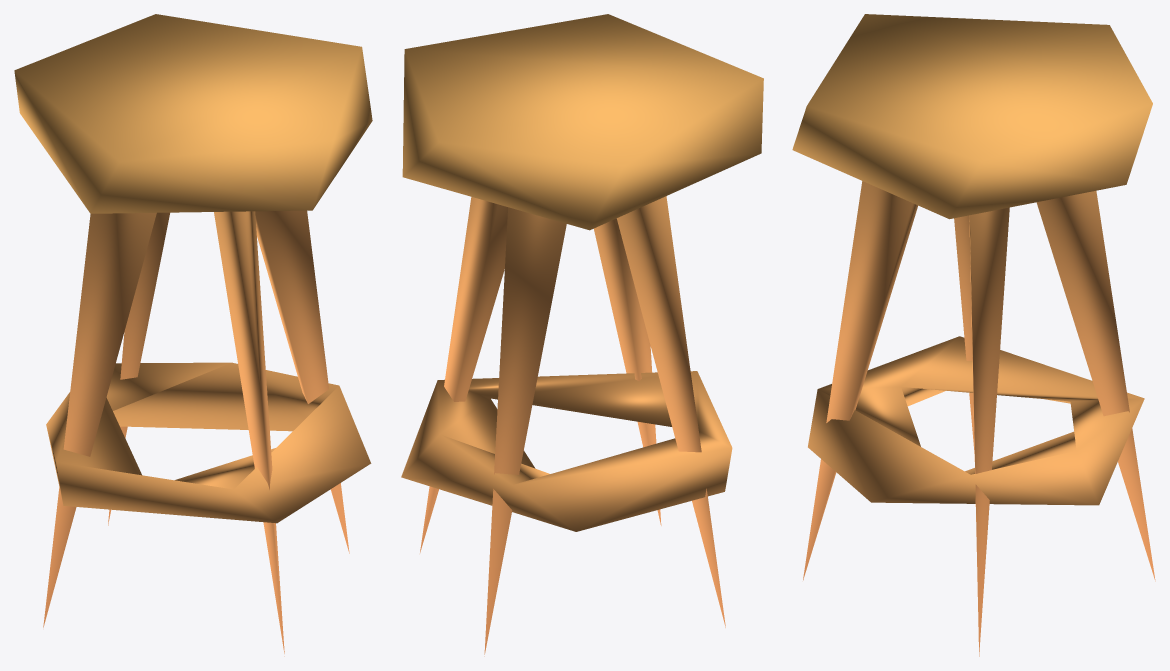
File: Chair_17.glb
3 renders of one model, left to right at view 1: azimuth 30°, elevation 25°; view 2: azimuth 150°, elevation 25°; view 3: azimuth 270°, elevation 25°, orthographic.
Visible parts, largest first — view 1: Chair_17; view 2: Chair_17; view 3: Chair_17.
Part boxes in pixels (box(x1,y1,x2,y2)): Chair_17: box(14, 14, 372, 656); Chair_17: box(401, 14, 763, 656); Chair_17: box(792, 14, 1155, 656).
Size of the model in its own units: 0.4038 by 0.608 by 0.3978.
Materials: 1 (1 with a texture image).
